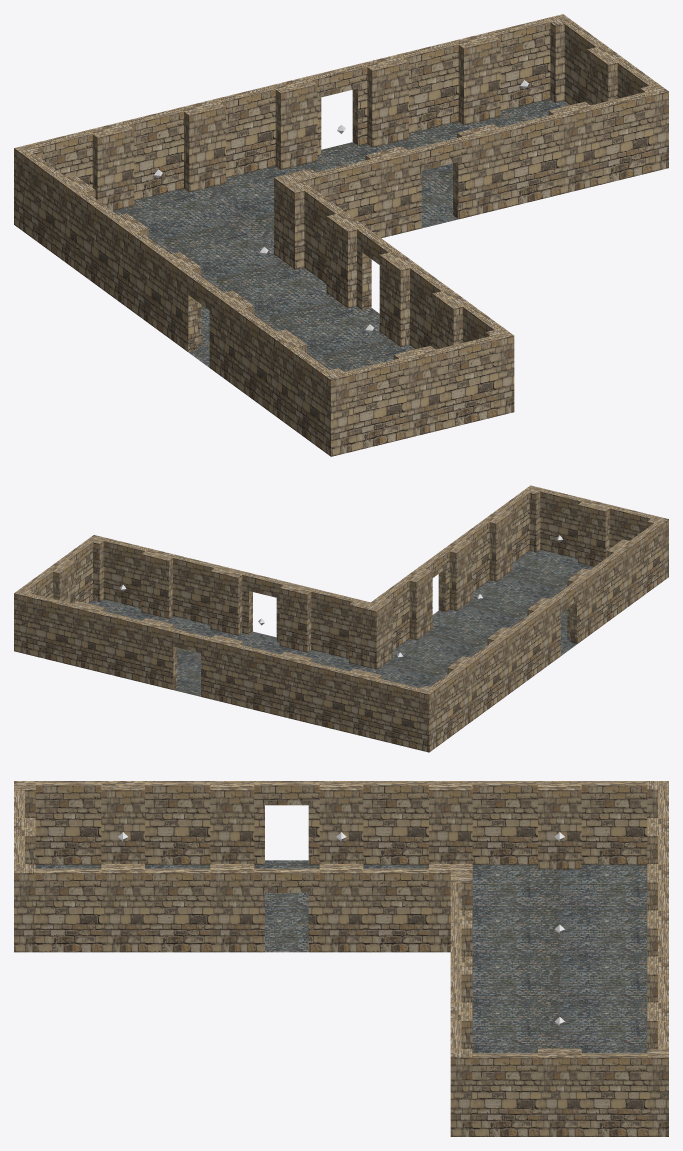
File: 1_2wideLRoom.fbx
3 views of the same model, one above another, from view 1: azimuth 30°, elevation 25°; view 2: azimuth 150°, elevation 25°; view 3: azimuth 270°, elevation 25° (orthographic). The views are drawn at different scales.
Visible parts, largest first — view 1: Cube_2, Plane_1; view 2: Cube_2, Plane_1; view 3: Cube_2, Plane_1.
Part boxes in pixels (box(x1,y1,x2,y2)): Cube_2: box(14, 14, 668, 456); Plane_1: box(112, 99, 570, 371); Cube_2: box(14, 485, 668, 752); Plane_1: box(89, 549, 594, 696); Cube_2: box(14, 781, 668, 1136); Plane_1: box(35, 860, 647, 1053).
Bounding box in the file's own units: 60 × 8 × 60.
4 materials, 4 textured.
